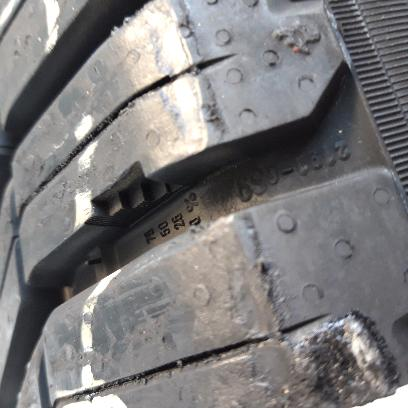temoin:100: (83, 160, 191, 230)
